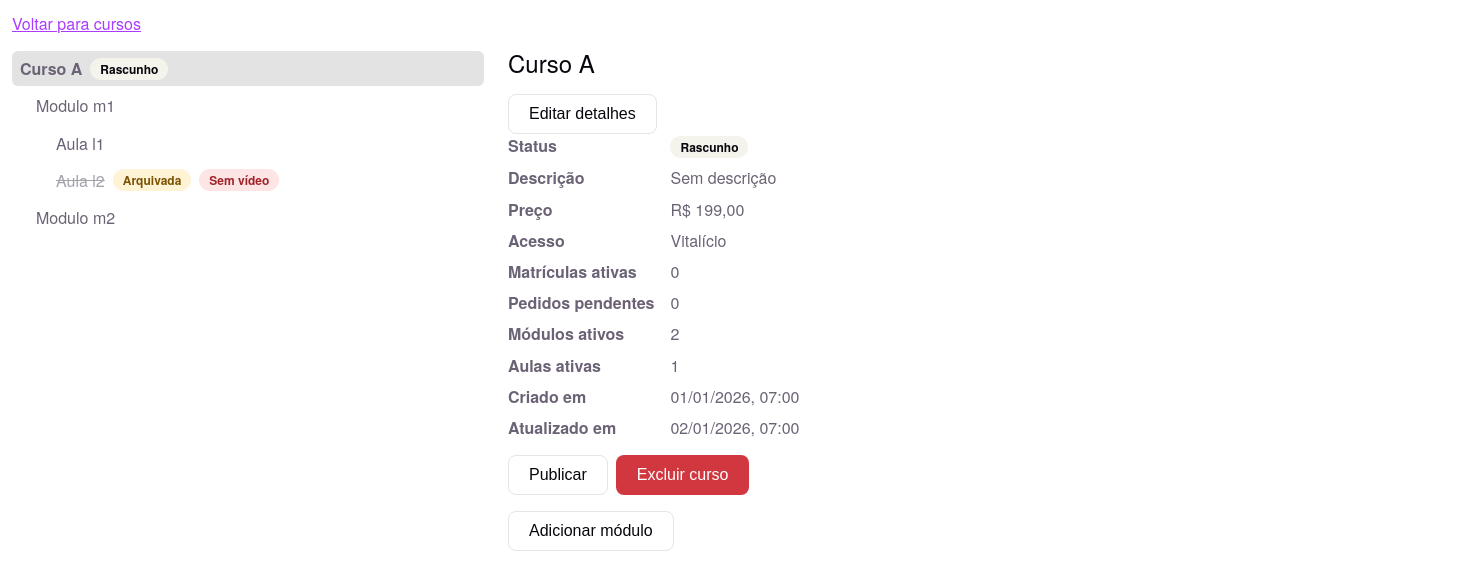
Test: reordering and moving › disables moving up for the first lesson
The width and height of the screenshot is (1464, 568).
Click the list item "Aula l1".
click(80, 143)  # box [56,132,105,155]
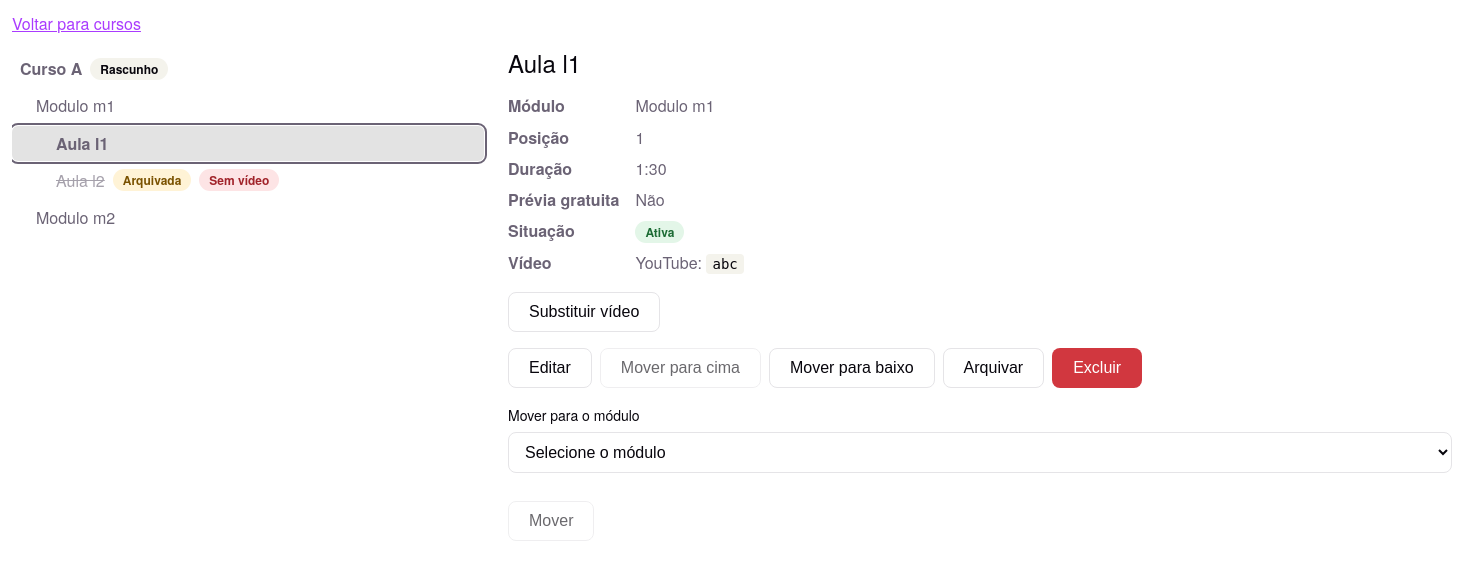
Expected: the button "Mover para cima" is disabled, [600,348,761,388]
